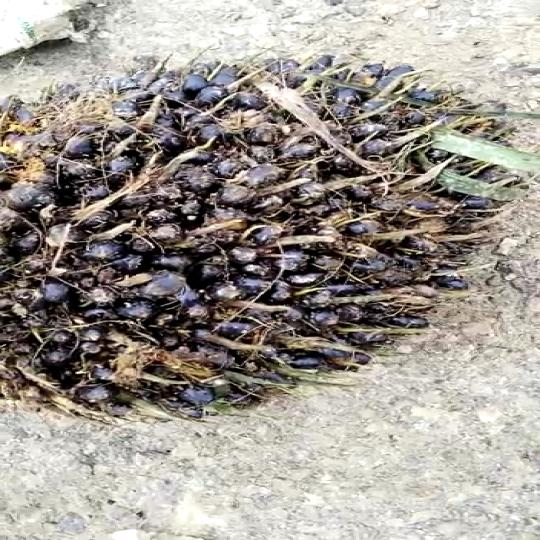mentah: (0, 57, 520, 428)
